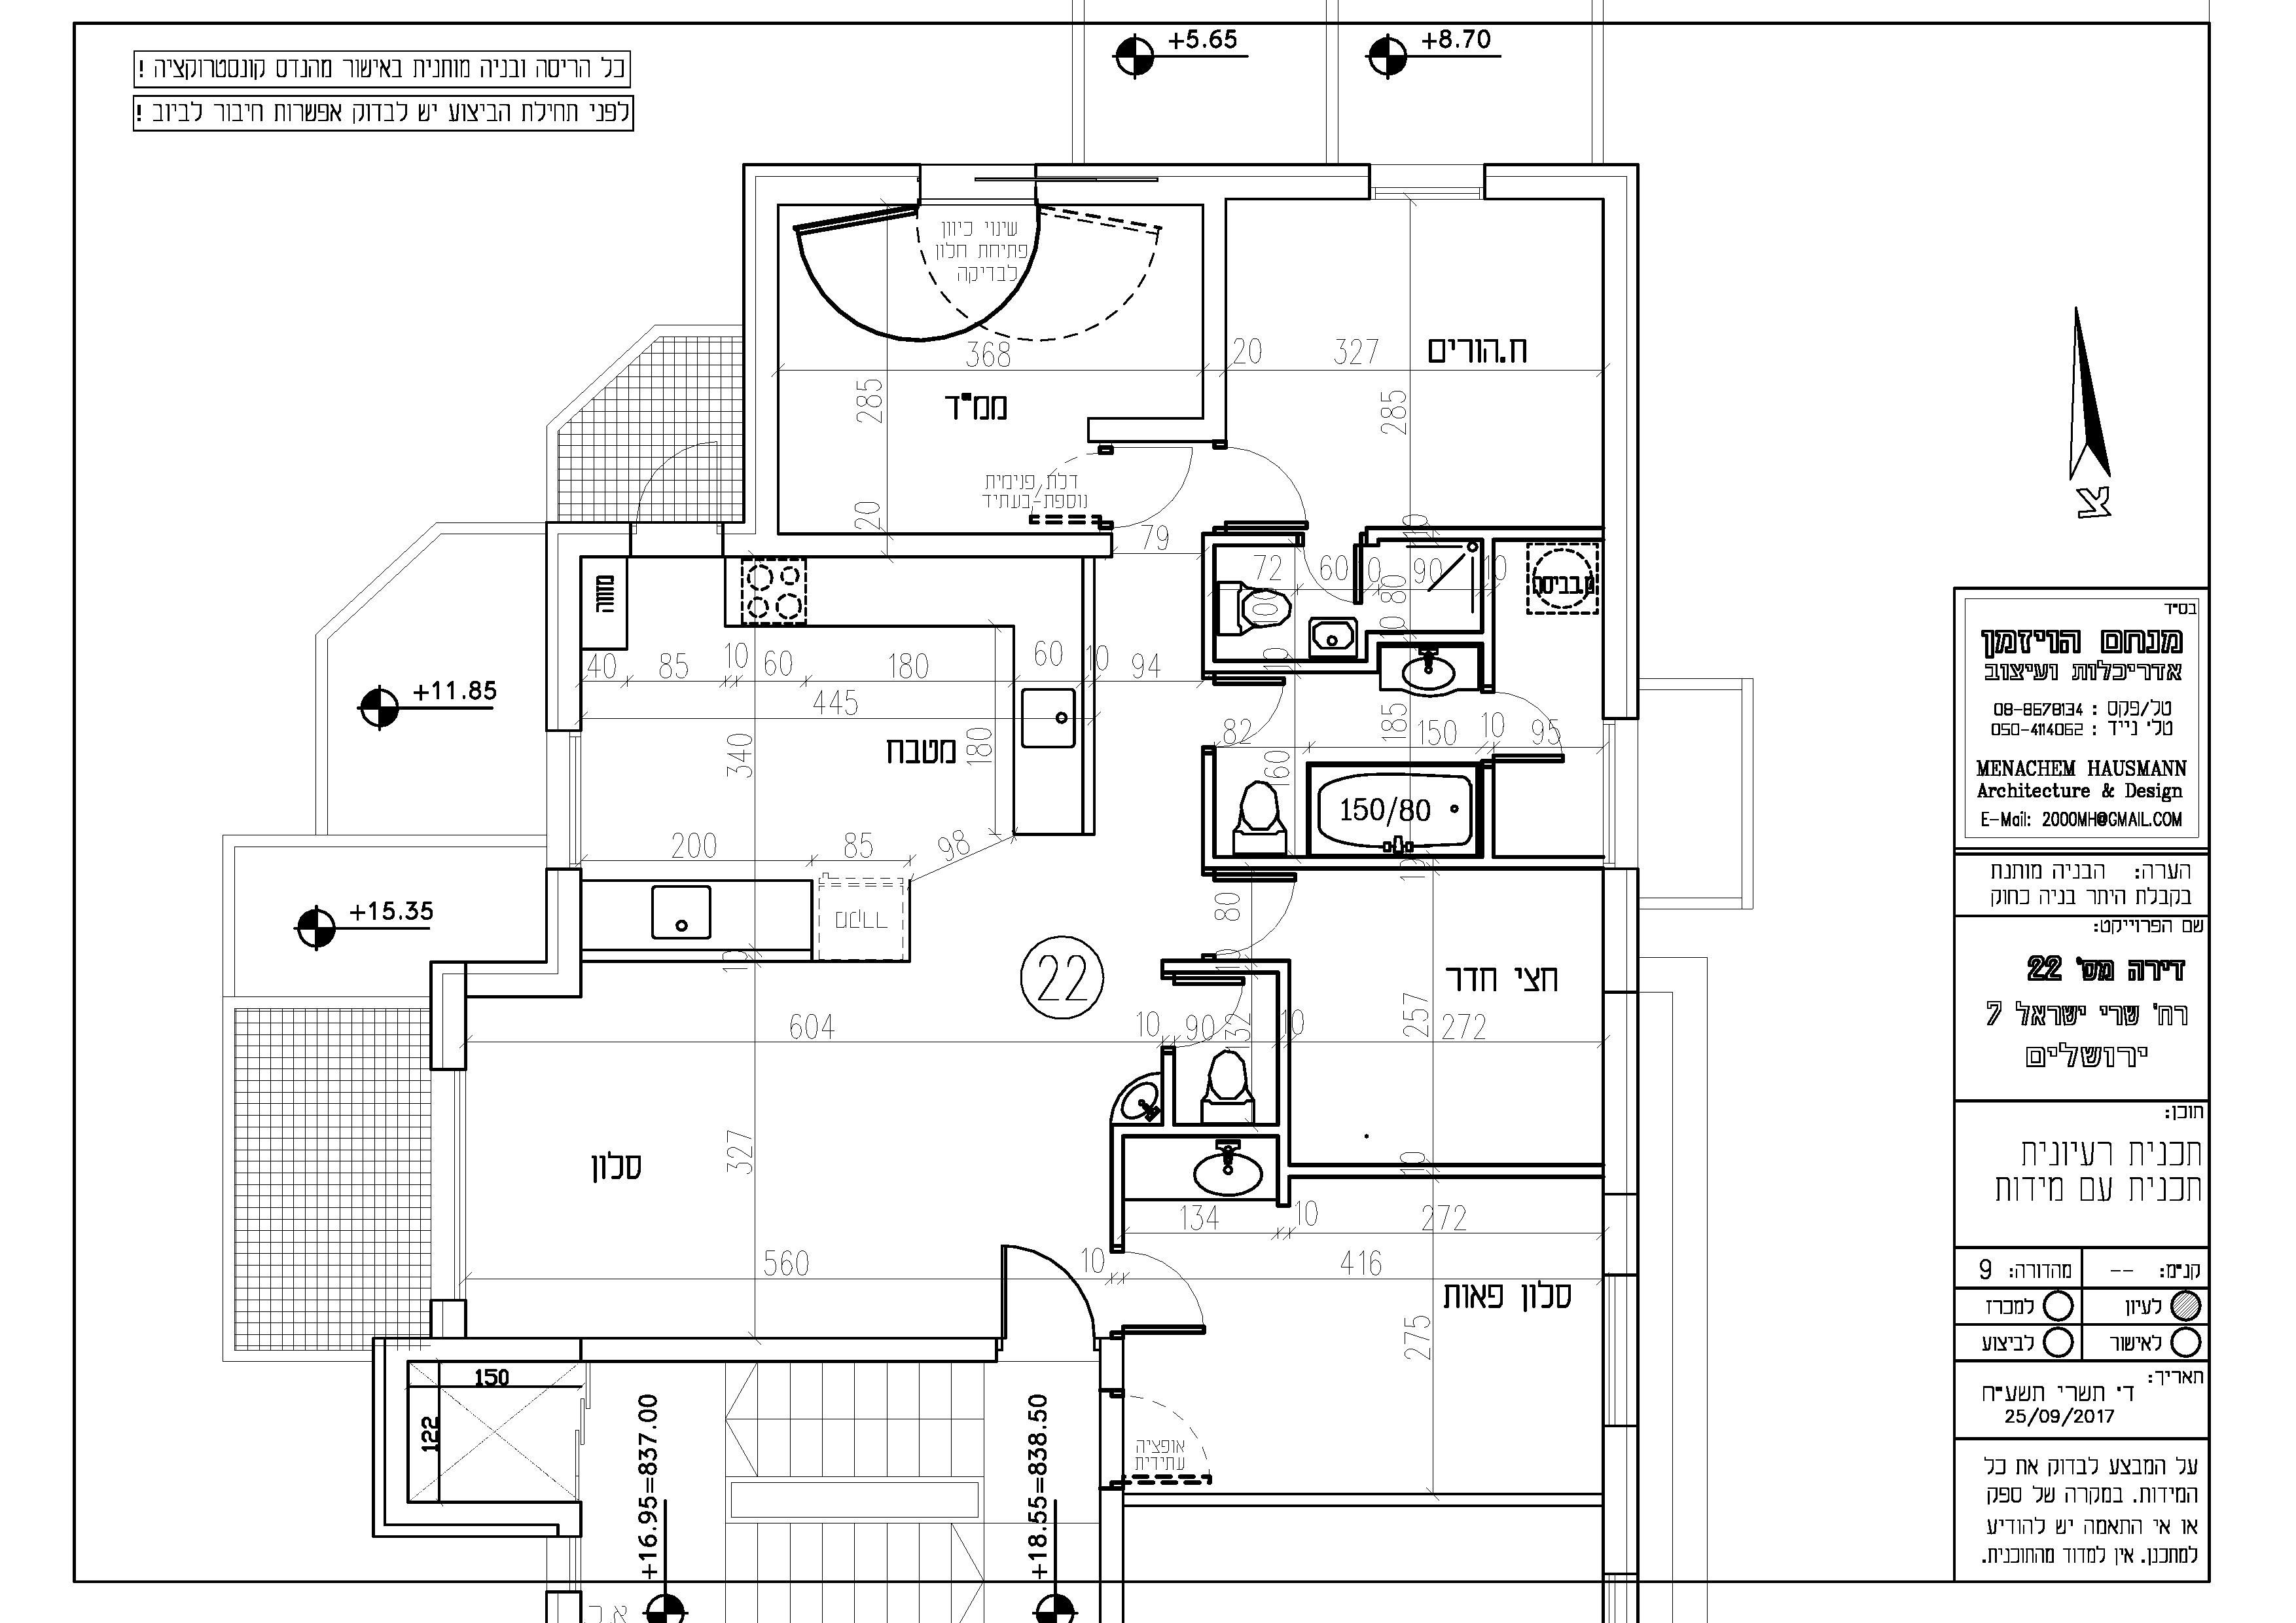door: (987, 1230, 1102, 1330), (1125, 1245, 1215, 1345), (1134, 1388, 1222, 1490), (1232, 443, 1324, 532), (1218, 869, 1299, 957), (1018, 448, 1101, 530), (1497, 685, 1566, 775), (1180, 977, 1260, 1049), (1218, 673, 1290, 750), (1297, 548, 1367, 610)
window: (430, 1070, 467, 1300), (1599, 1275, 1639, 1428), (546, 729, 585, 868), (1604, 718, 1638, 871), (1367, 162, 1485, 202)
